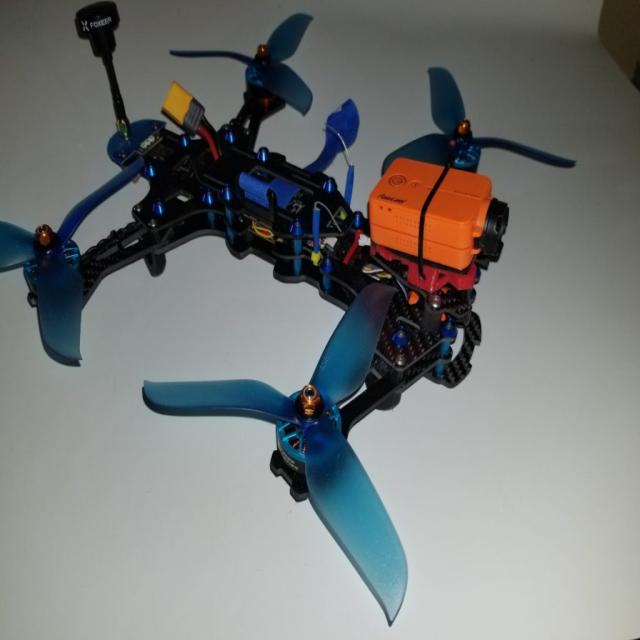drone: (0, 15, 530, 625)
